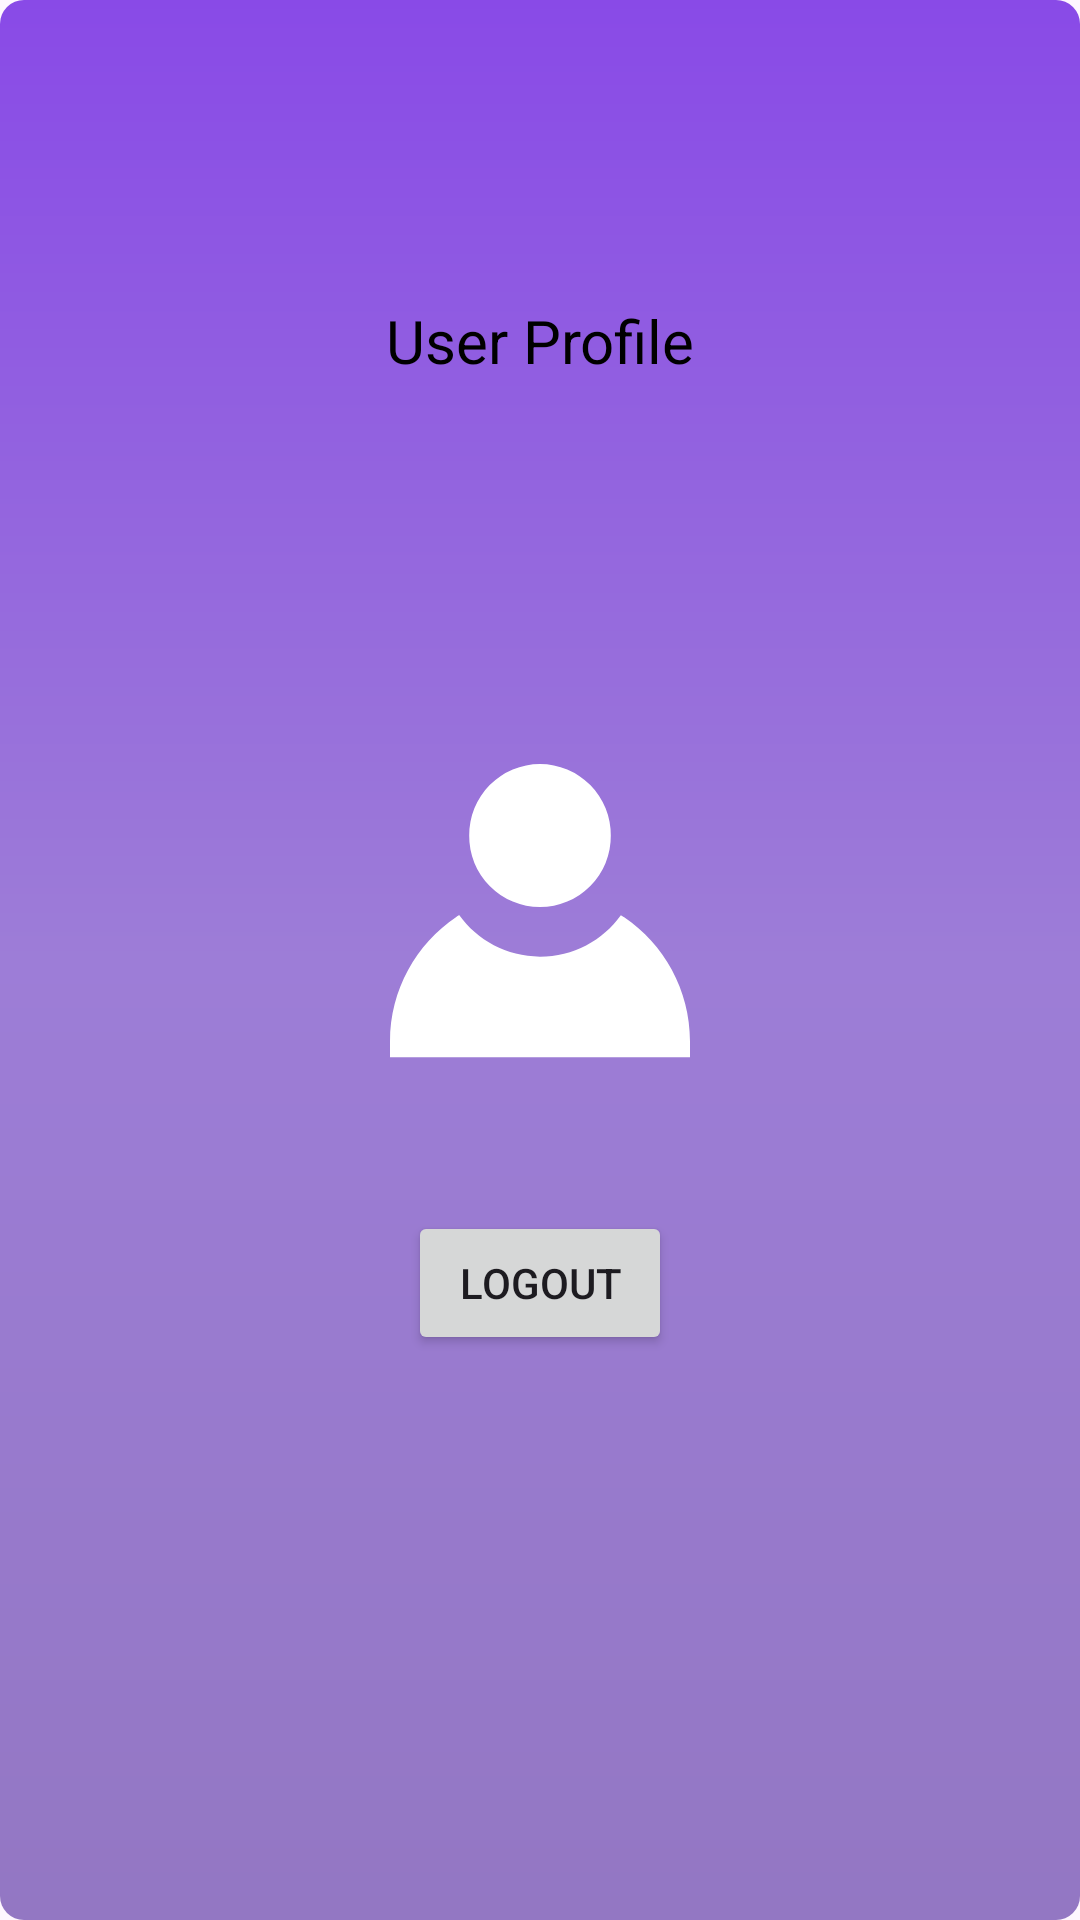

Icon click points for this 1080w x 1920h phone screenshot, format point (x, y):
user: point (540, 911)
